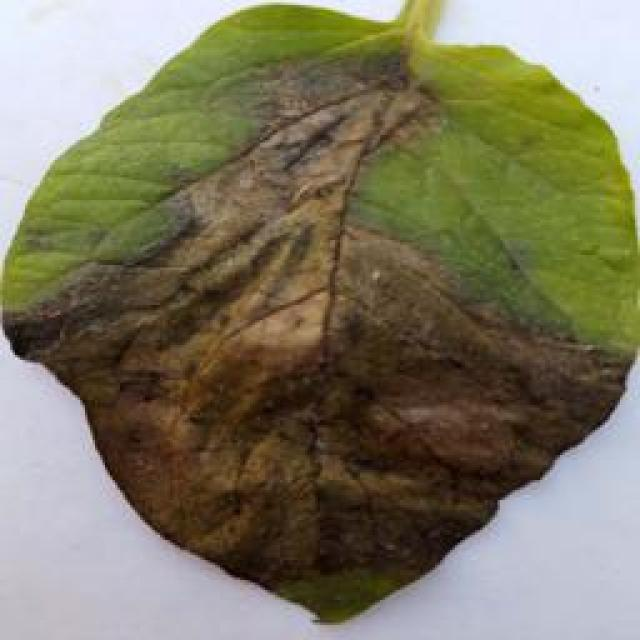Potato_Late_Blight: (7, 12, 638, 634)
